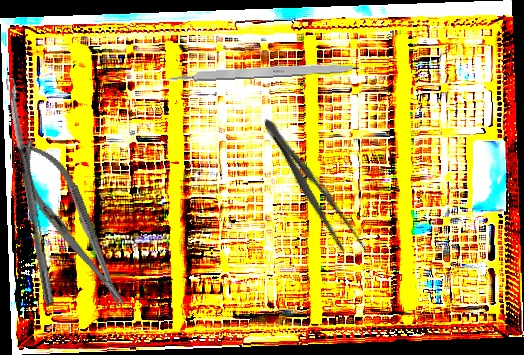Dressing Forceps: (253, 112, 372, 265)
Needle Holder: (5, 130, 142, 319)
Scalpel Handle: (166, 59, 361, 84)
Surgical Spoon: (5, 77, 56, 307)
